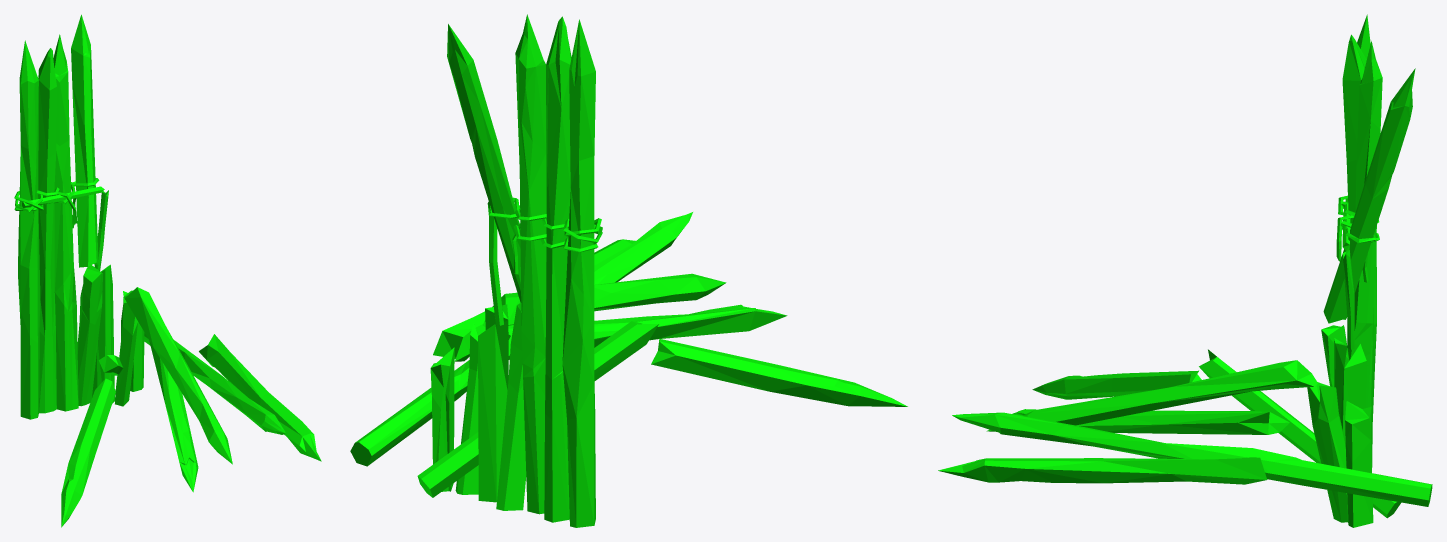
The model's file is SM_Palisade_3m_Broken_D.fbx.
3 views of the same model, side by side, from view 1: azimuth 30°, elevation 25°; view 2: azimuth 150°, elevation 25°; view 3: azimuth 270°, elevation 25° (orthographic). The views are drawn at different scales.
Parts seen in each view (by area): view 1: palisade-3m-broken-d; view 2: palisade-3m-broken-d; view 3: palisade-3m-broken-d.
Boxes of the visible parts, x1,y1,x2,y2 form: palisade-3m-broken-d: [14, 14, 321, 527]; palisade-3m-broken-d: [350, 14, 907, 527]; palisade-3m-broken-d: [938, 14, 1432, 527].
Size of the model in its own units: 4.85 by 6.94 by 6.84.
